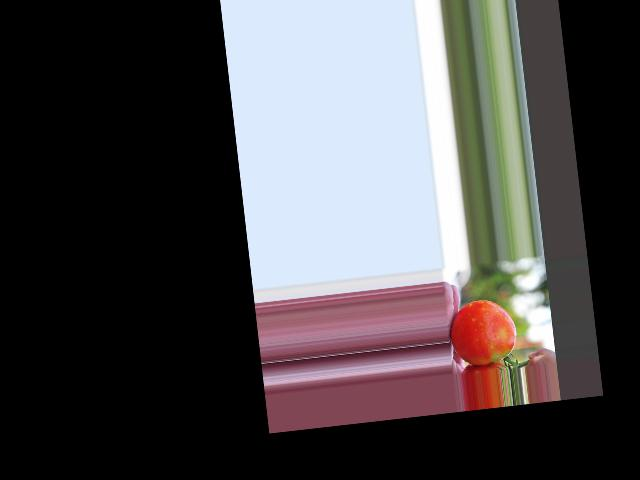tomato: (447, 296, 519, 367)
